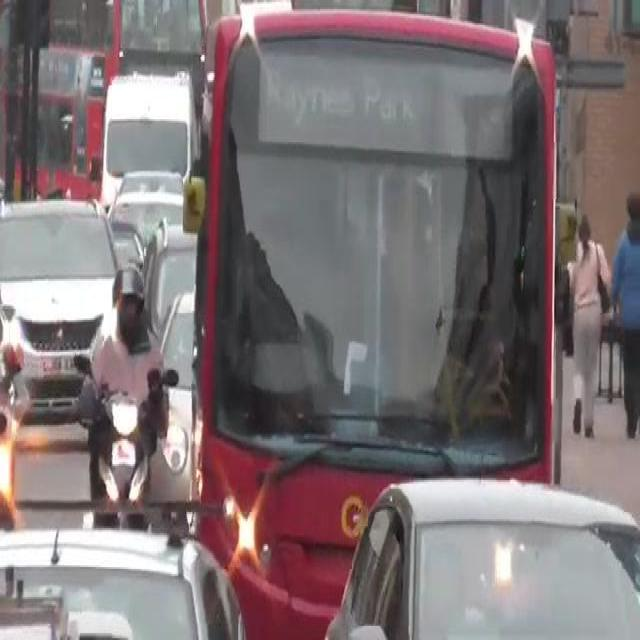motorcycle: (166, 0, 582, 638)
